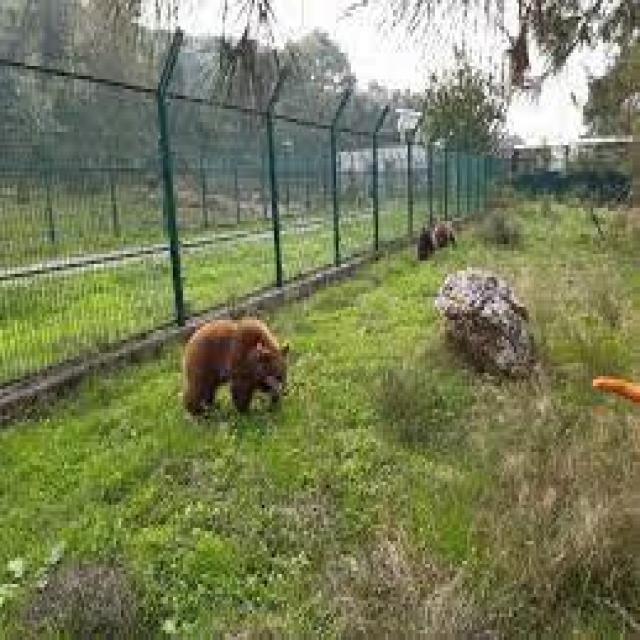Bear: (180, 317, 289, 422), (418, 221, 460, 257)
